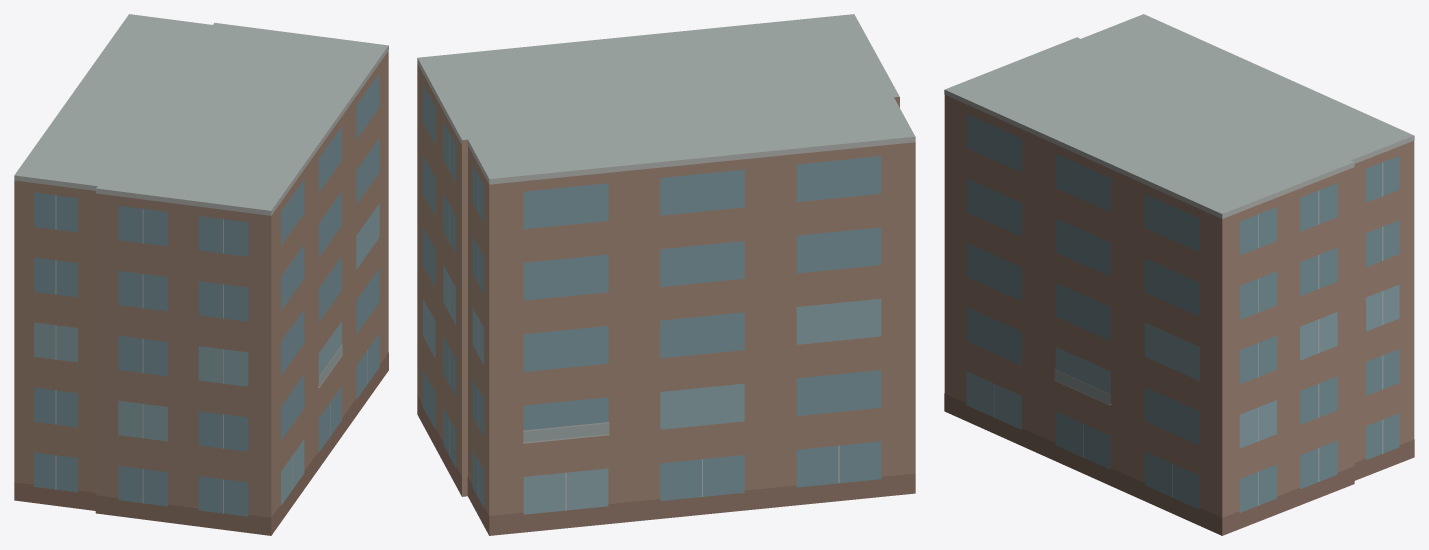
Rendered from survey-upis-32866271.glb.
3 views of the same model, side by side, from view 1: azimuth 30°, elevation 25°; view 2: azimuth 150°, elevation 25°; view 3: azimuth 270°, elevation 25° (orthographic). The views are drawn at different scales.
Parts seen in each view (by area): view 1: survey-upis-32866271.tmp; view 2: survey-upis-32866271.tmp; view 3: survey-upis-32866271.tmp.
Boxes of the visible parts, x1=… form: survey-upis-32866271.tmp: x1=14, y1=14, x2=388, y2=535; survey-upis-32866271.tmp: x1=417, y1=14, x2=915, y2=535; survey-upis-32866271.tmp: x1=944, y1=14, x2=1414, y2=535.
Bounding box in the file's own units: 21.22 × 15.9 × 21.05.
